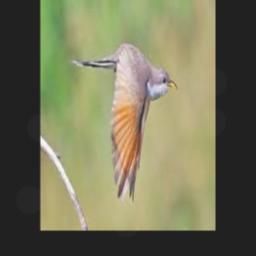Cuckoo: (68, 42, 177, 202)
